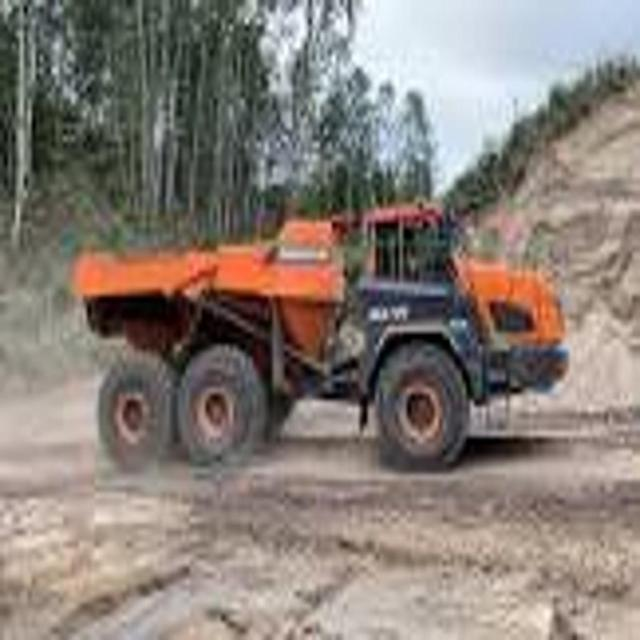dump_truck: (75, 195, 575, 507)
